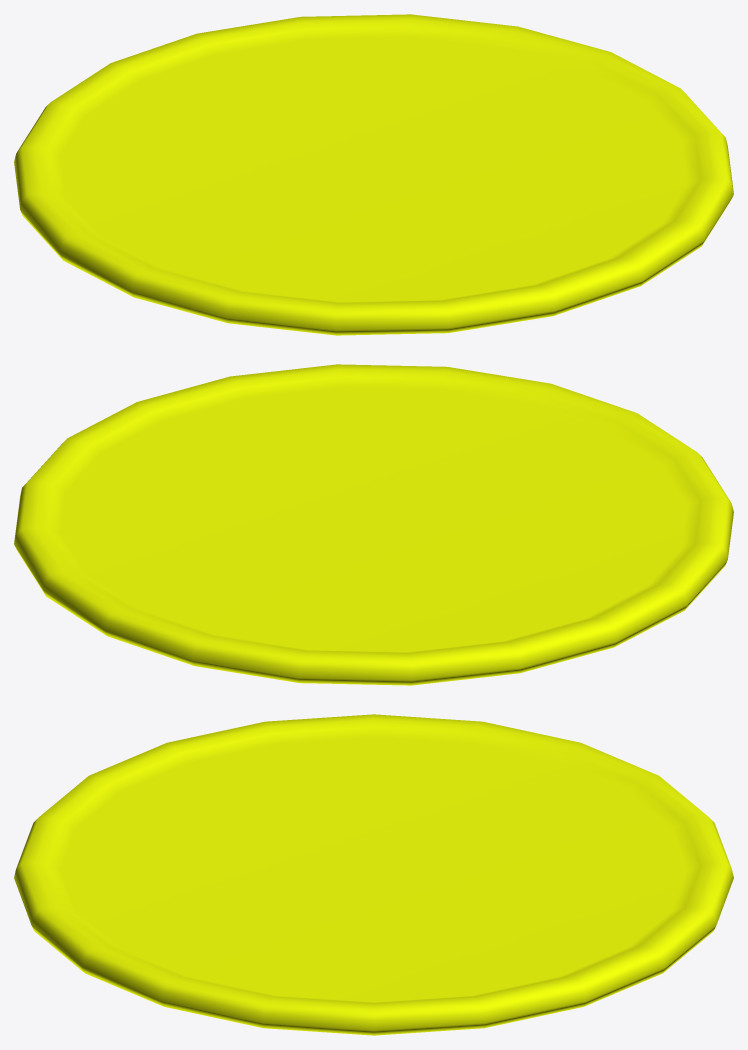
File: Pizza_Dough.fbx
3 renders of one model, top to bottom at view 1: azimuth 30°, elevation 25°; view 2: azimuth 150°, elevation 25°; view 3: azimuth 270°, elevation 25°, orthographic.
Visible parts, largest first — view 1: PIZZA_DOUGH; view 2: PIZZA_DOUGH; view 3: PIZZA_DOUGH.
Boxes of the visible parts, bbox=[...] form: PIZZA_DOUGH: bbox=[14, 14, 733, 335]; PIZZA_DOUGH: bbox=[14, 364, 733, 685]; PIZZA_DOUGH: bbox=[14, 714, 733, 1035].
Size of the model in its own units: 0.5119 by 0.0169 by 0.5116.
